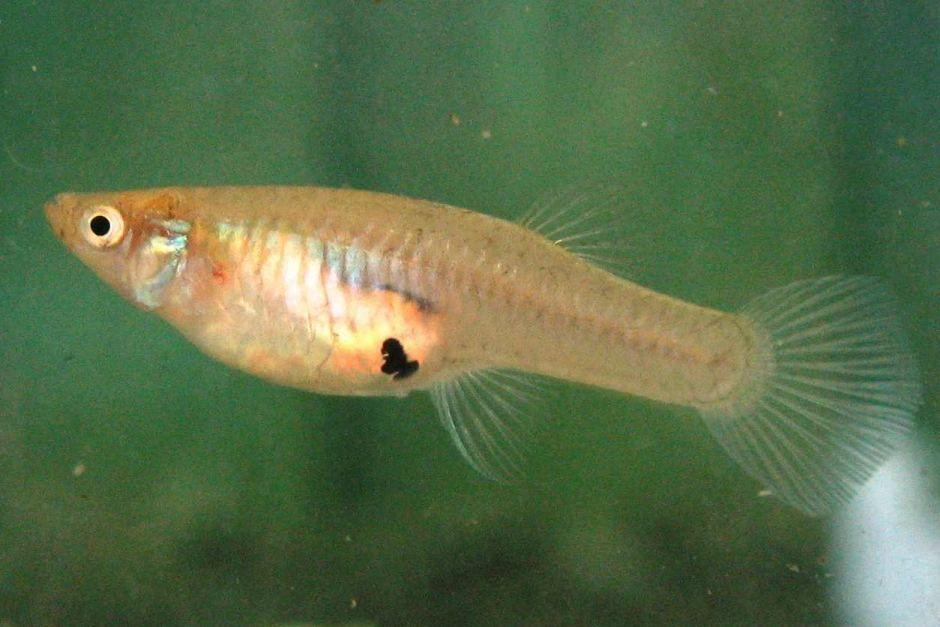Mosquito Fish: (47, 158, 925, 517)
